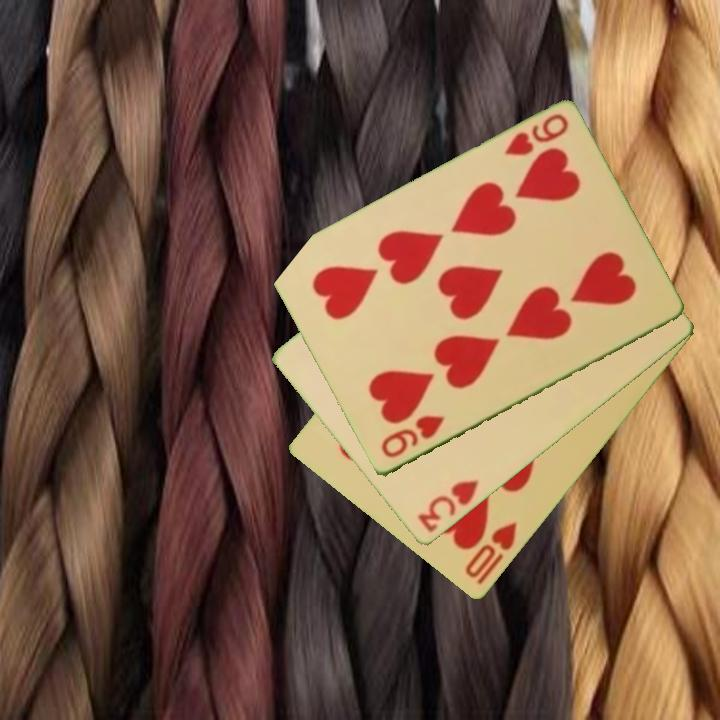10h: (461, 518, 521, 582)
3h: (413, 476, 482, 536)
9h: (500, 110, 572, 160), (377, 412, 448, 462)
